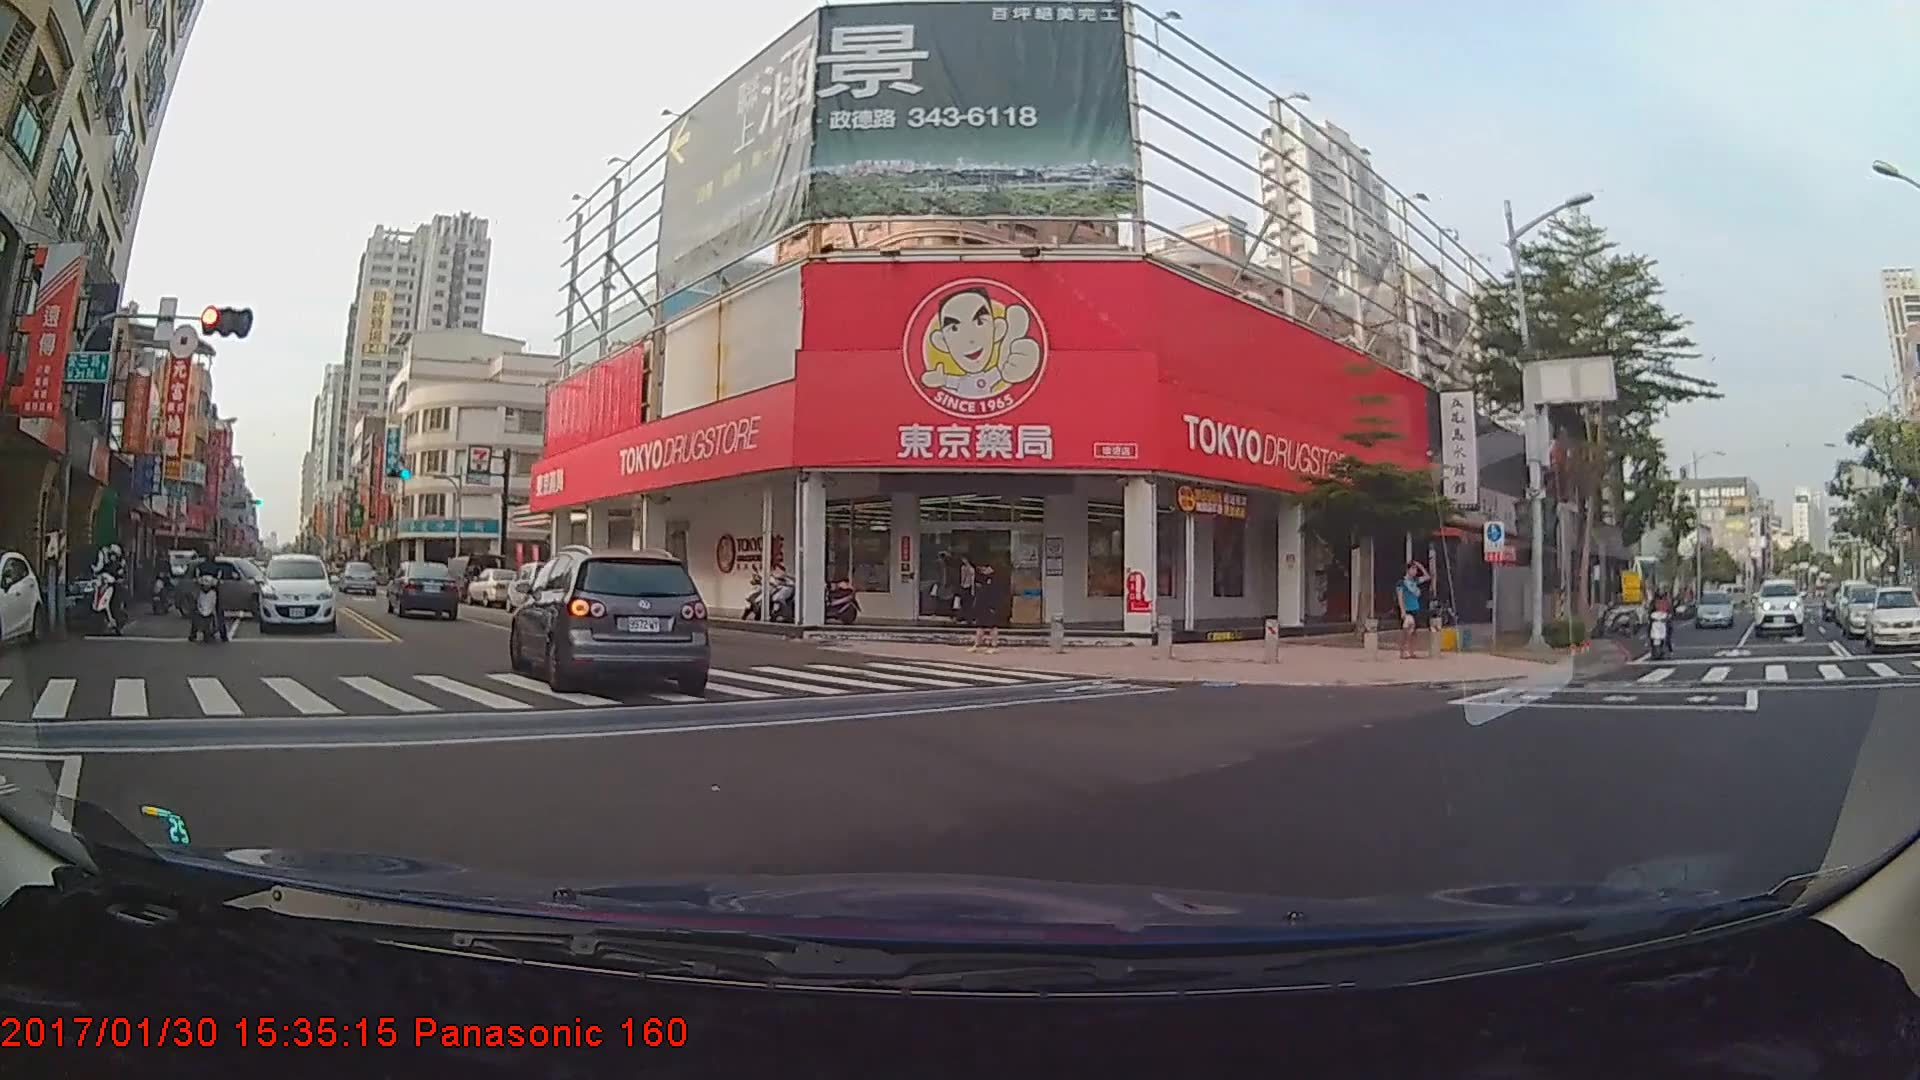pedestrian: (968, 563, 1011, 658), (1396, 557, 1433, 664), (929, 550, 964, 629), (955, 555, 978, 627)
rider: (182, 548, 232, 651), (85, 546, 139, 641), (1640, 588, 1678, 659)
vehicle: (512, 549, 705, 692), (172, 554, 291, 620), (254, 557, 336, 638), (387, 561, 457, 619), (1863, 584, 1917, 651), (502, 560, 569, 615), (1838, 581, 1900, 637), (1752, 578, 1803, 636), (464, 566, 524, 605), (1694, 589, 1734, 627)
